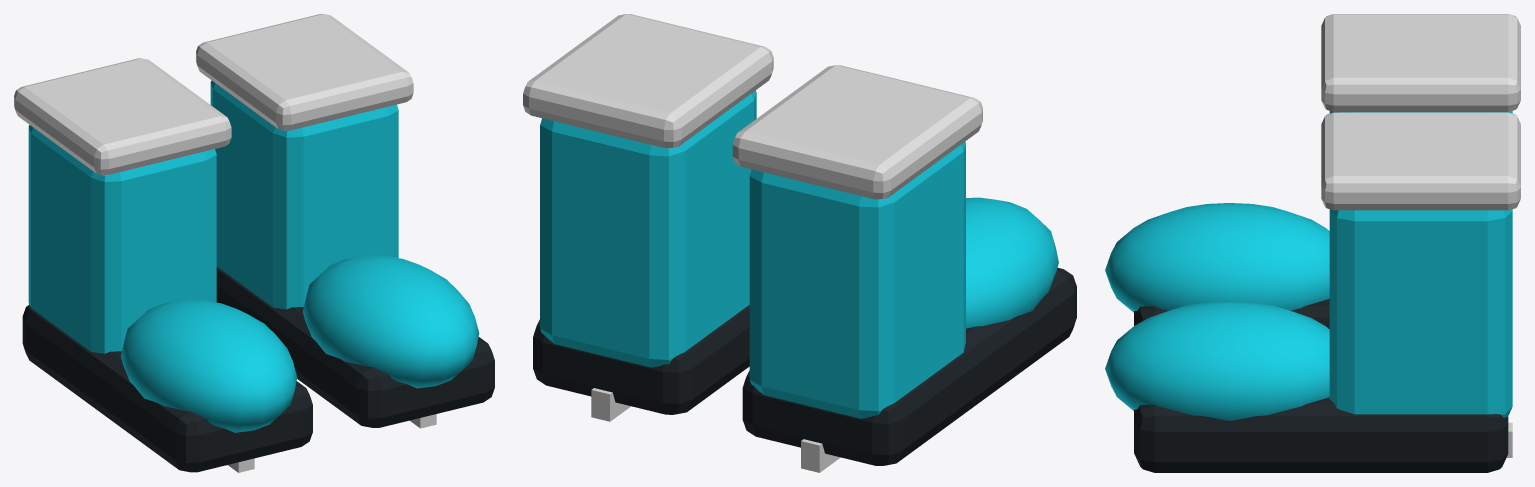
The model's file is item-boot-2.glb.
3 renders of one model, left to right at view 1: azimuth 30°, elevation 25°; view 2: azimuth 150°, elevation 25°; view 3: azimuth 270°, elevation 25°, orthographic. The views are drawn at different scales.
Visible parts, largest first — view 1: item-boot-2; view 2: item-boot-2; view 3: item-boot-2.
Boxes of the visible parts, x1,y1,x2,y2 form: item-boot-2: (14,14,494,472); item-boot-2: (523,14,1076,472); item-boot-2: (1105,14,1520,472).
Bounding box in the file's own units: 0.49 × 0.41 × 0.5.
